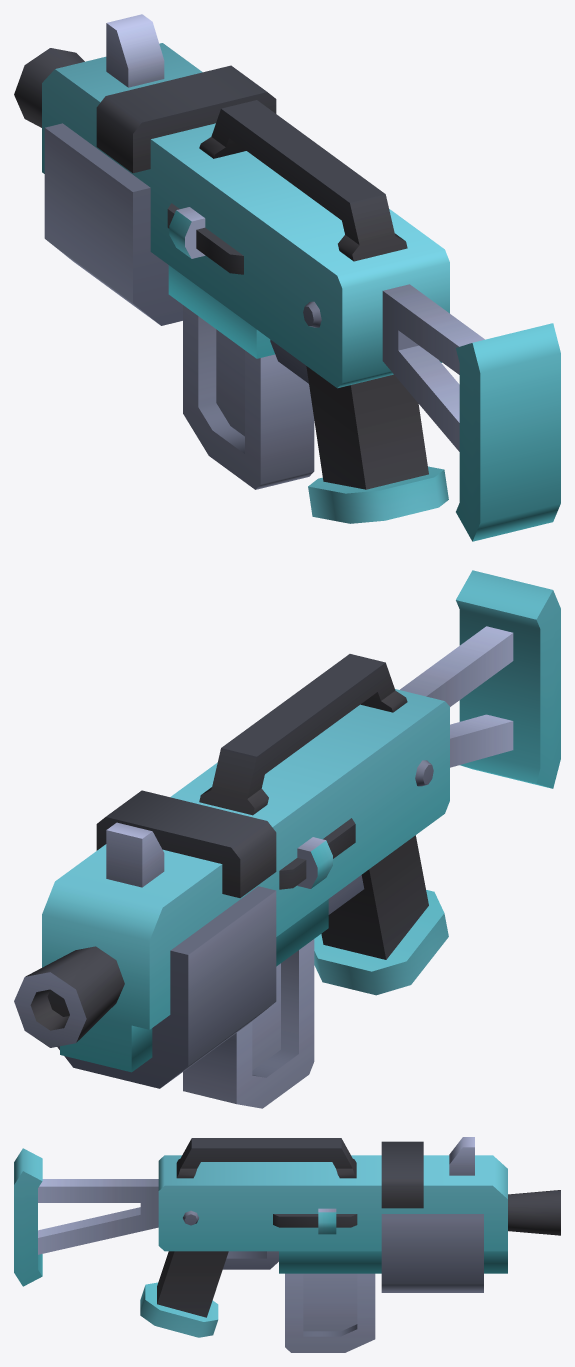
Rendered from blaster-d.glb.
3 views of the same model, one above another, from view 1: azimuth 30°, elevation 25°; view 2: azimuth 150°, elevation 25°; view 3: azimuth 270°, elevation 25° (orthographic). The views are drawn at different scales.
Parts seen in each view (by area): view 1: blaster-d, magazine; view 2: blaster-d, magazine; view 3: blaster-d, magazine.
Part boxes in pixels (x1,y1,x2,y2): blaster-d: [14, 14, 560, 541]; magazine: [183, 305, 314, 489]; blaster-d: [14, 570, 560, 1088]; magazine: [183, 939, 314, 1108]; blaster-d: [14, 1137, 560, 1337]; magazine: [285, 1273, 375, 1352].
Bounding box in the file's own units: 0.165 × 0.3719 × 0.9079.
1 material, 1 textured.
